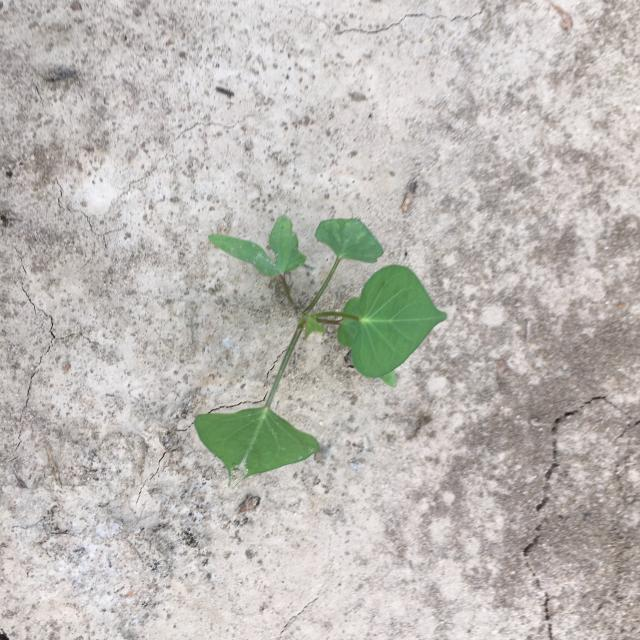MorningGlory: (195, 214, 448, 488)
